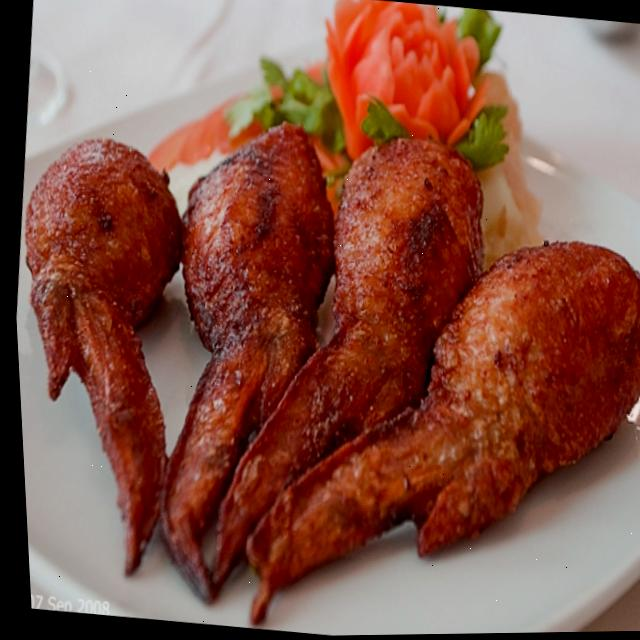鸡肉料理 含炸鸡: (2, 39, 640, 640)
